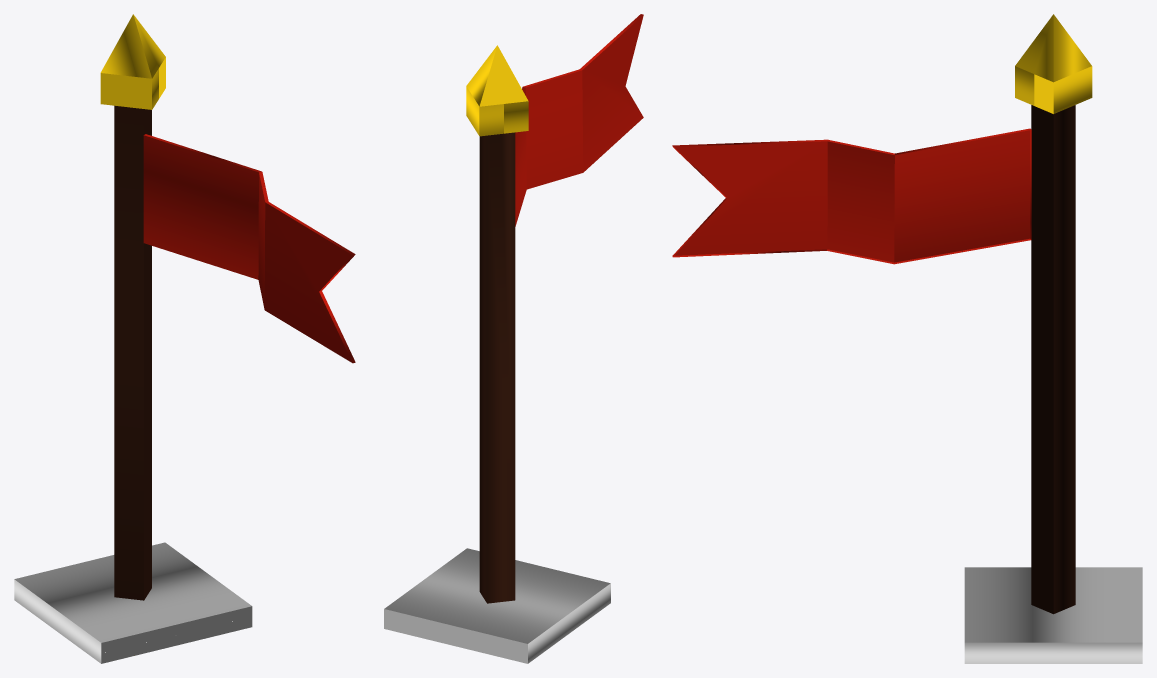
The model's file is flag2(1).fbx.
3 views of the same model, side by side, from view 1: azimuth 30°, elevation 25°; view 2: azimuth 150°, elevation 25°; view 3: azimuth 270°, elevation 25° (orthographic). The views are drawn at different scales.
Parts seen in each view (by area): view 1: flag, Mesh1__复制__1; view 2: flag, Mesh1__复制__1; view 3: flag, Mesh1__复制__1.
Part boxes in pixels (x1,y1,x2,y2): flag: [14, 14, 252, 663]; Mesh1__复制__1: [143, 134, 355, 363]; flag: [384, 45, 610, 663]; Mesh1__复制__1: [515, 14, 643, 226]; flag: [964, 14, 1142, 663]; Mesh1__复制__1: [672, 128, 1031, 264].
Bounding box in the file's own units: 26.73 × 101 × 70.62.
